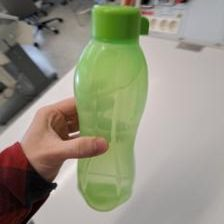bottle: (66, 3, 154, 211)
